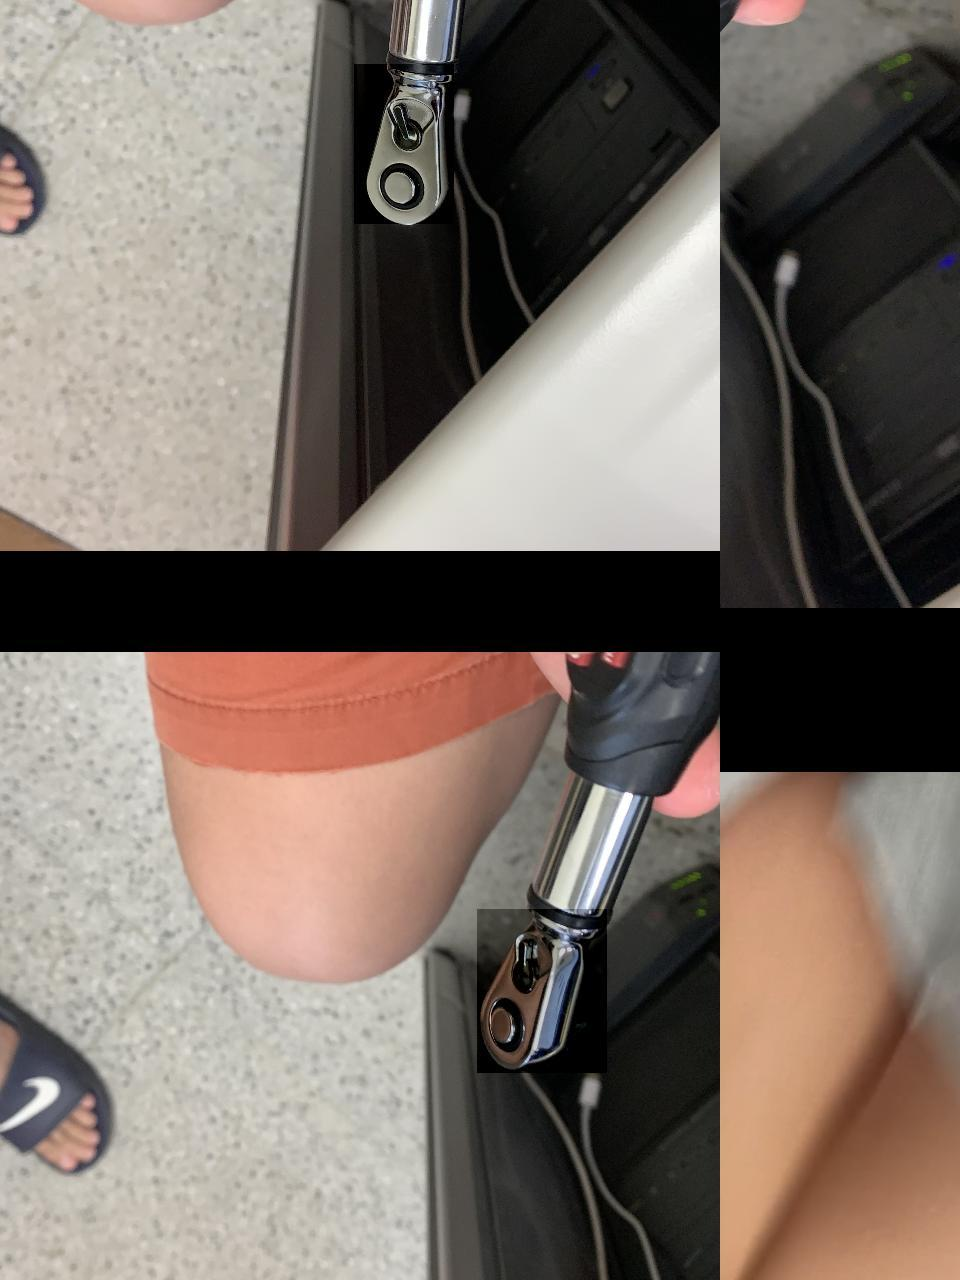Tool: (476, 909, 606, 1073), (353, 65, 453, 224)
